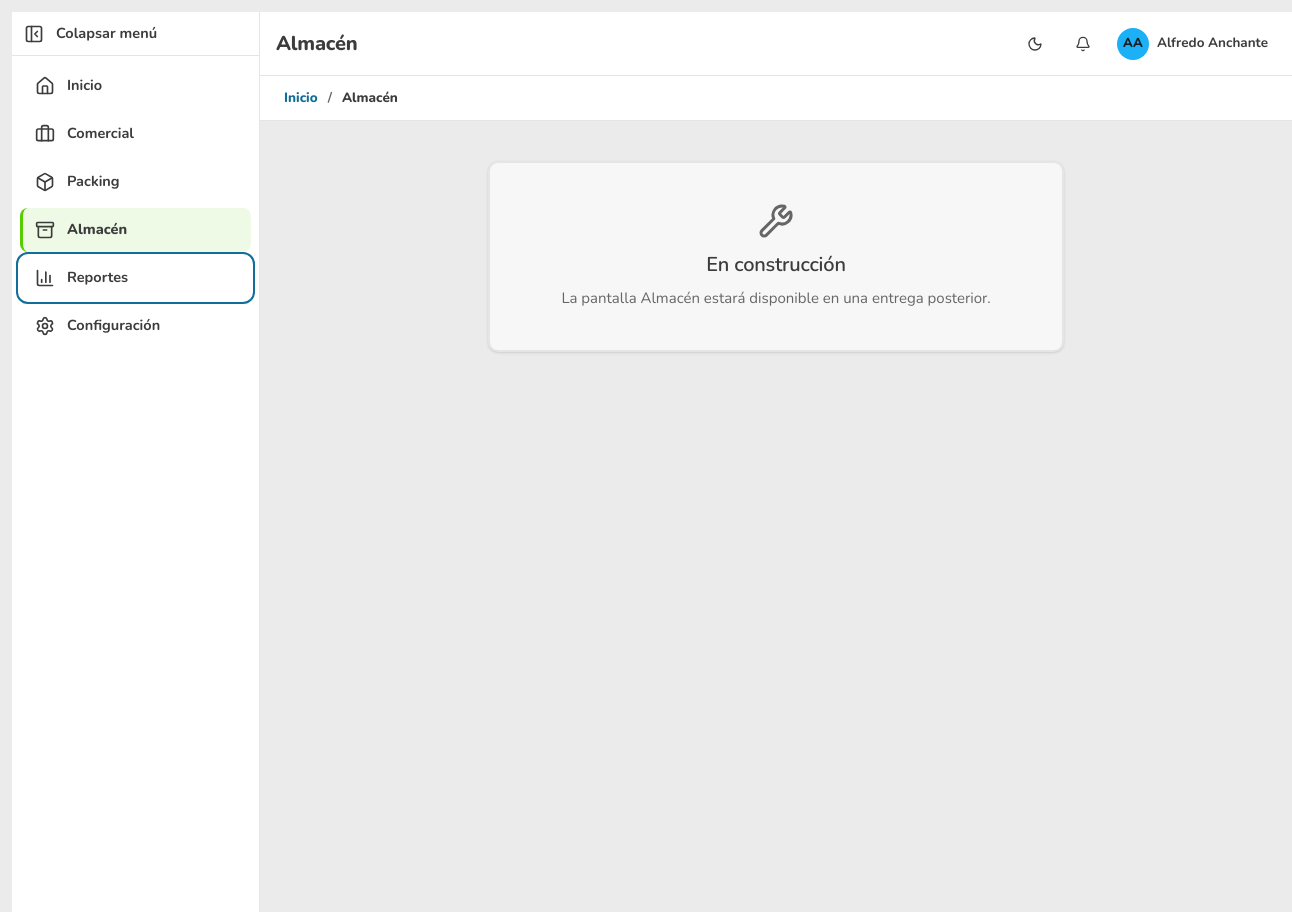
Scenario: Navegación por teclado del shell (T8.10) › H7-E15: activar (Enter) la sección "Reportes" enfocada actualiza el título de la barra superior
What coordinates should you click on to do the following:
click the link "Reportes"
I would click on:
 (82, 278)
Its box is [35, 267, 128, 288].
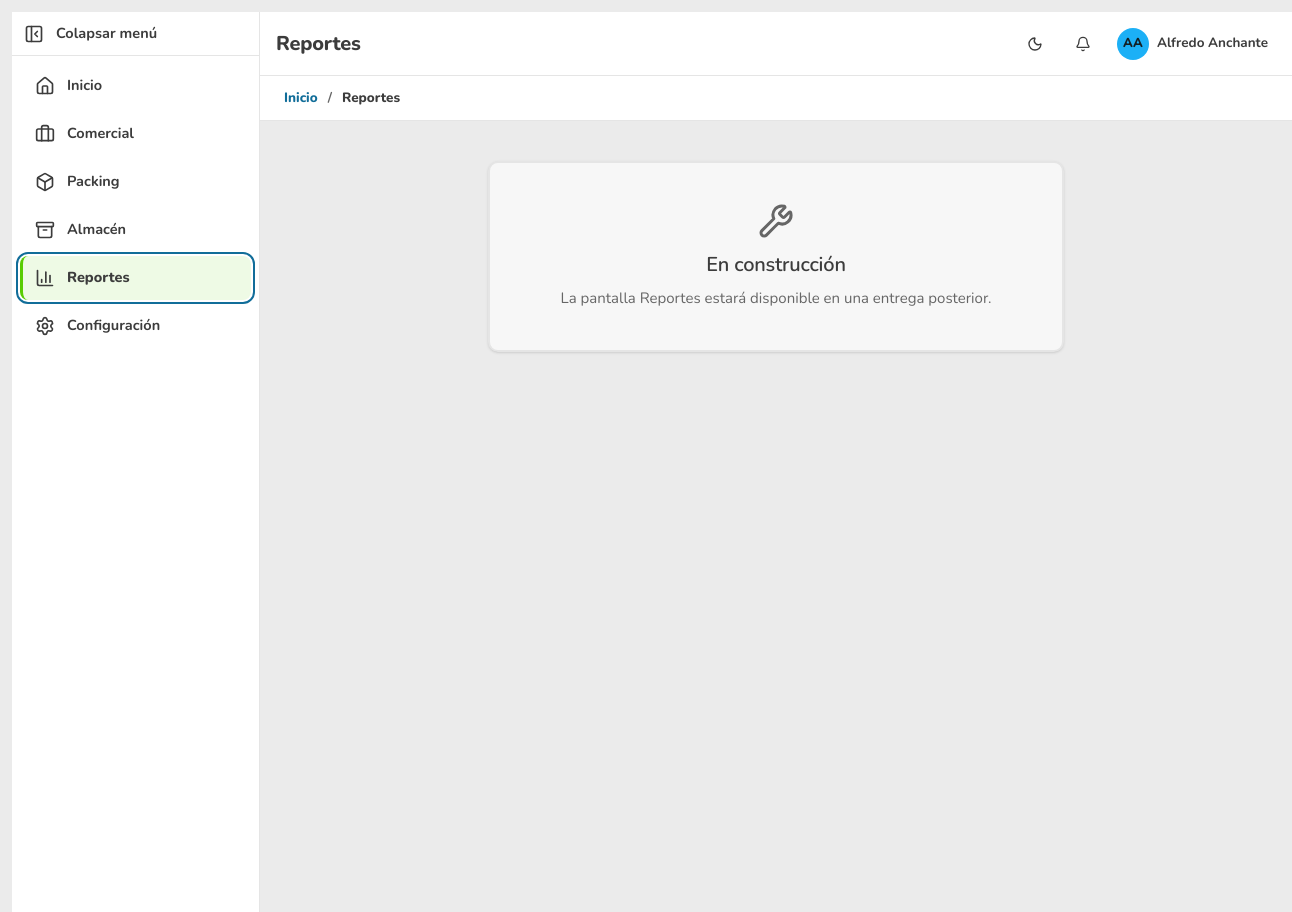
Now the heading "Reportes" is shown, box [276, 30, 361, 56]
